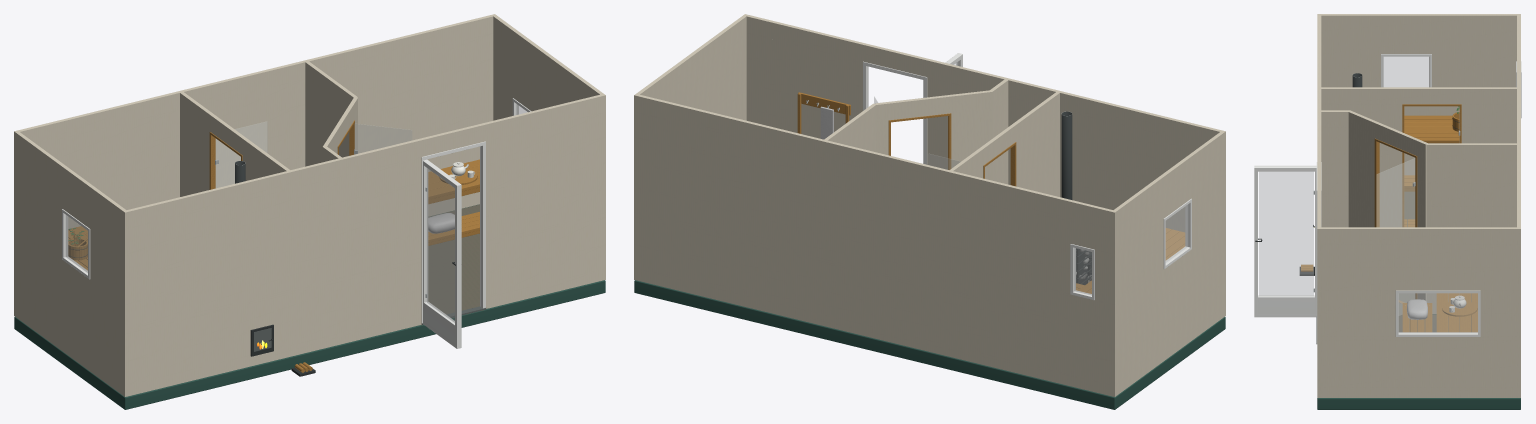
3 renders of one model, left to right at view 1: azimuth 30°, elevation 25°; view 2: azimuth 150°, elevation 25°; view 3: azimuth 270°, elevation 25°, orthographic. The views are drawn at different scales.
Visible parts, largest first — view 1: Wall front band 2, Wall front band 4, Wall front band 7, Wall front band 5, Wall front band 6, Wall rear band 7, Wall front band 1, Wall front band 8, Wall rear band 8, Wall rear band 6, Foundation, Wall rear band 5 (+33 smaller); view 2: Wall rear band 2, Wall rear band 7, Wall rear band 4, Wall rear band 1, Wall rear band 6, Wall rear band 5, Wall rear band 8, Wall front band 8, Foundation, Wall front band 7, Wall rear band 0, Wall front band 6 (+26 smaller); view 3: Single PVC glass panel, Wall right band 2, Wall right band 6, Wall right band 7, Wall left band 7, Wall right band 1, Wall right band 8, Wall top_13_0003 band 8, Wall left band 8, Wall left band 6, Window glazing.002, Wall right band 4 (+46 smaller).
Boxes of the visible parts, x1,y1,x2,y2 form: Wall front band 2: [123, 217, 605, 361]; Wall front band 4: [123, 187, 605, 329]; Wall front band 7: [123, 112, 605, 254]; Wall front band 5: [123, 162, 605, 304]; Wall front band 6: [123, 137, 605, 279]; Wall rear band 7: [14, 33, 493, 174]; Wall front band 1: [123, 244, 605, 385]; Wall front band 8: [123, 94, 605, 229]; Wall rear band 8: [14, 14, 496, 149]; Wall rear band 6: [14, 58, 493, 199]; Foundation: [14, 204, 605, 409]; Wall rear band 5: [14, 83, 493, 224]; Wall rear band 2: [634, 217, 1116, 361]; Wall rear band 7: [634, 112, 1116, 254]; Wall rear band 4: [634, 187, 1116, 329]; Wall rear band 1: [634, 244, 1116, 385]; Wall rear band 6: [634, 137, 1116, 279]; Wall rear band 5: [634, 162, 1116, 304]; Wall rear band 8: [634, 94, 1116, 229]; Wall front band 8: [743, 14, 1225, 149]; Foundation: [634, 280, 1225, 409]; Wall front band 7: [746, 33, 1225, 174]; Wall rear band 0: [634, 268, 1116, 396]; Wall front band 6: [746, 58, 1225, 199]; Single PVC glass panel: [1259, 172, 1313, 295]; Wall right band 2: [1321, 340, 1516, 365]; Wall right band 6: [1321, 267, 1516, 290]; Wall right band 7: [1321, 244, 1516, 267]; Wall left band 7: [1321, 31, 1516, 53]; Wall right band 1: [1321, 366, 1516, 387]; Wall right band 8: [1321, 227, 1516, 244]; Wall top_13_0003 band 8: [1321, 87, 1516, 104]; Wall left band 8: [1321, 14, 1516, 30]; Wall left band 6: [1321, 54, 1516, 76]; Window glazing.002: [1399, 293, 1477, 332]; Wall right band 4: [1321, 313, 1516, 336].
Bounding box in the file's own units: 6.02 × 2.36 × 3.15.
32 materials, 13 textured.
